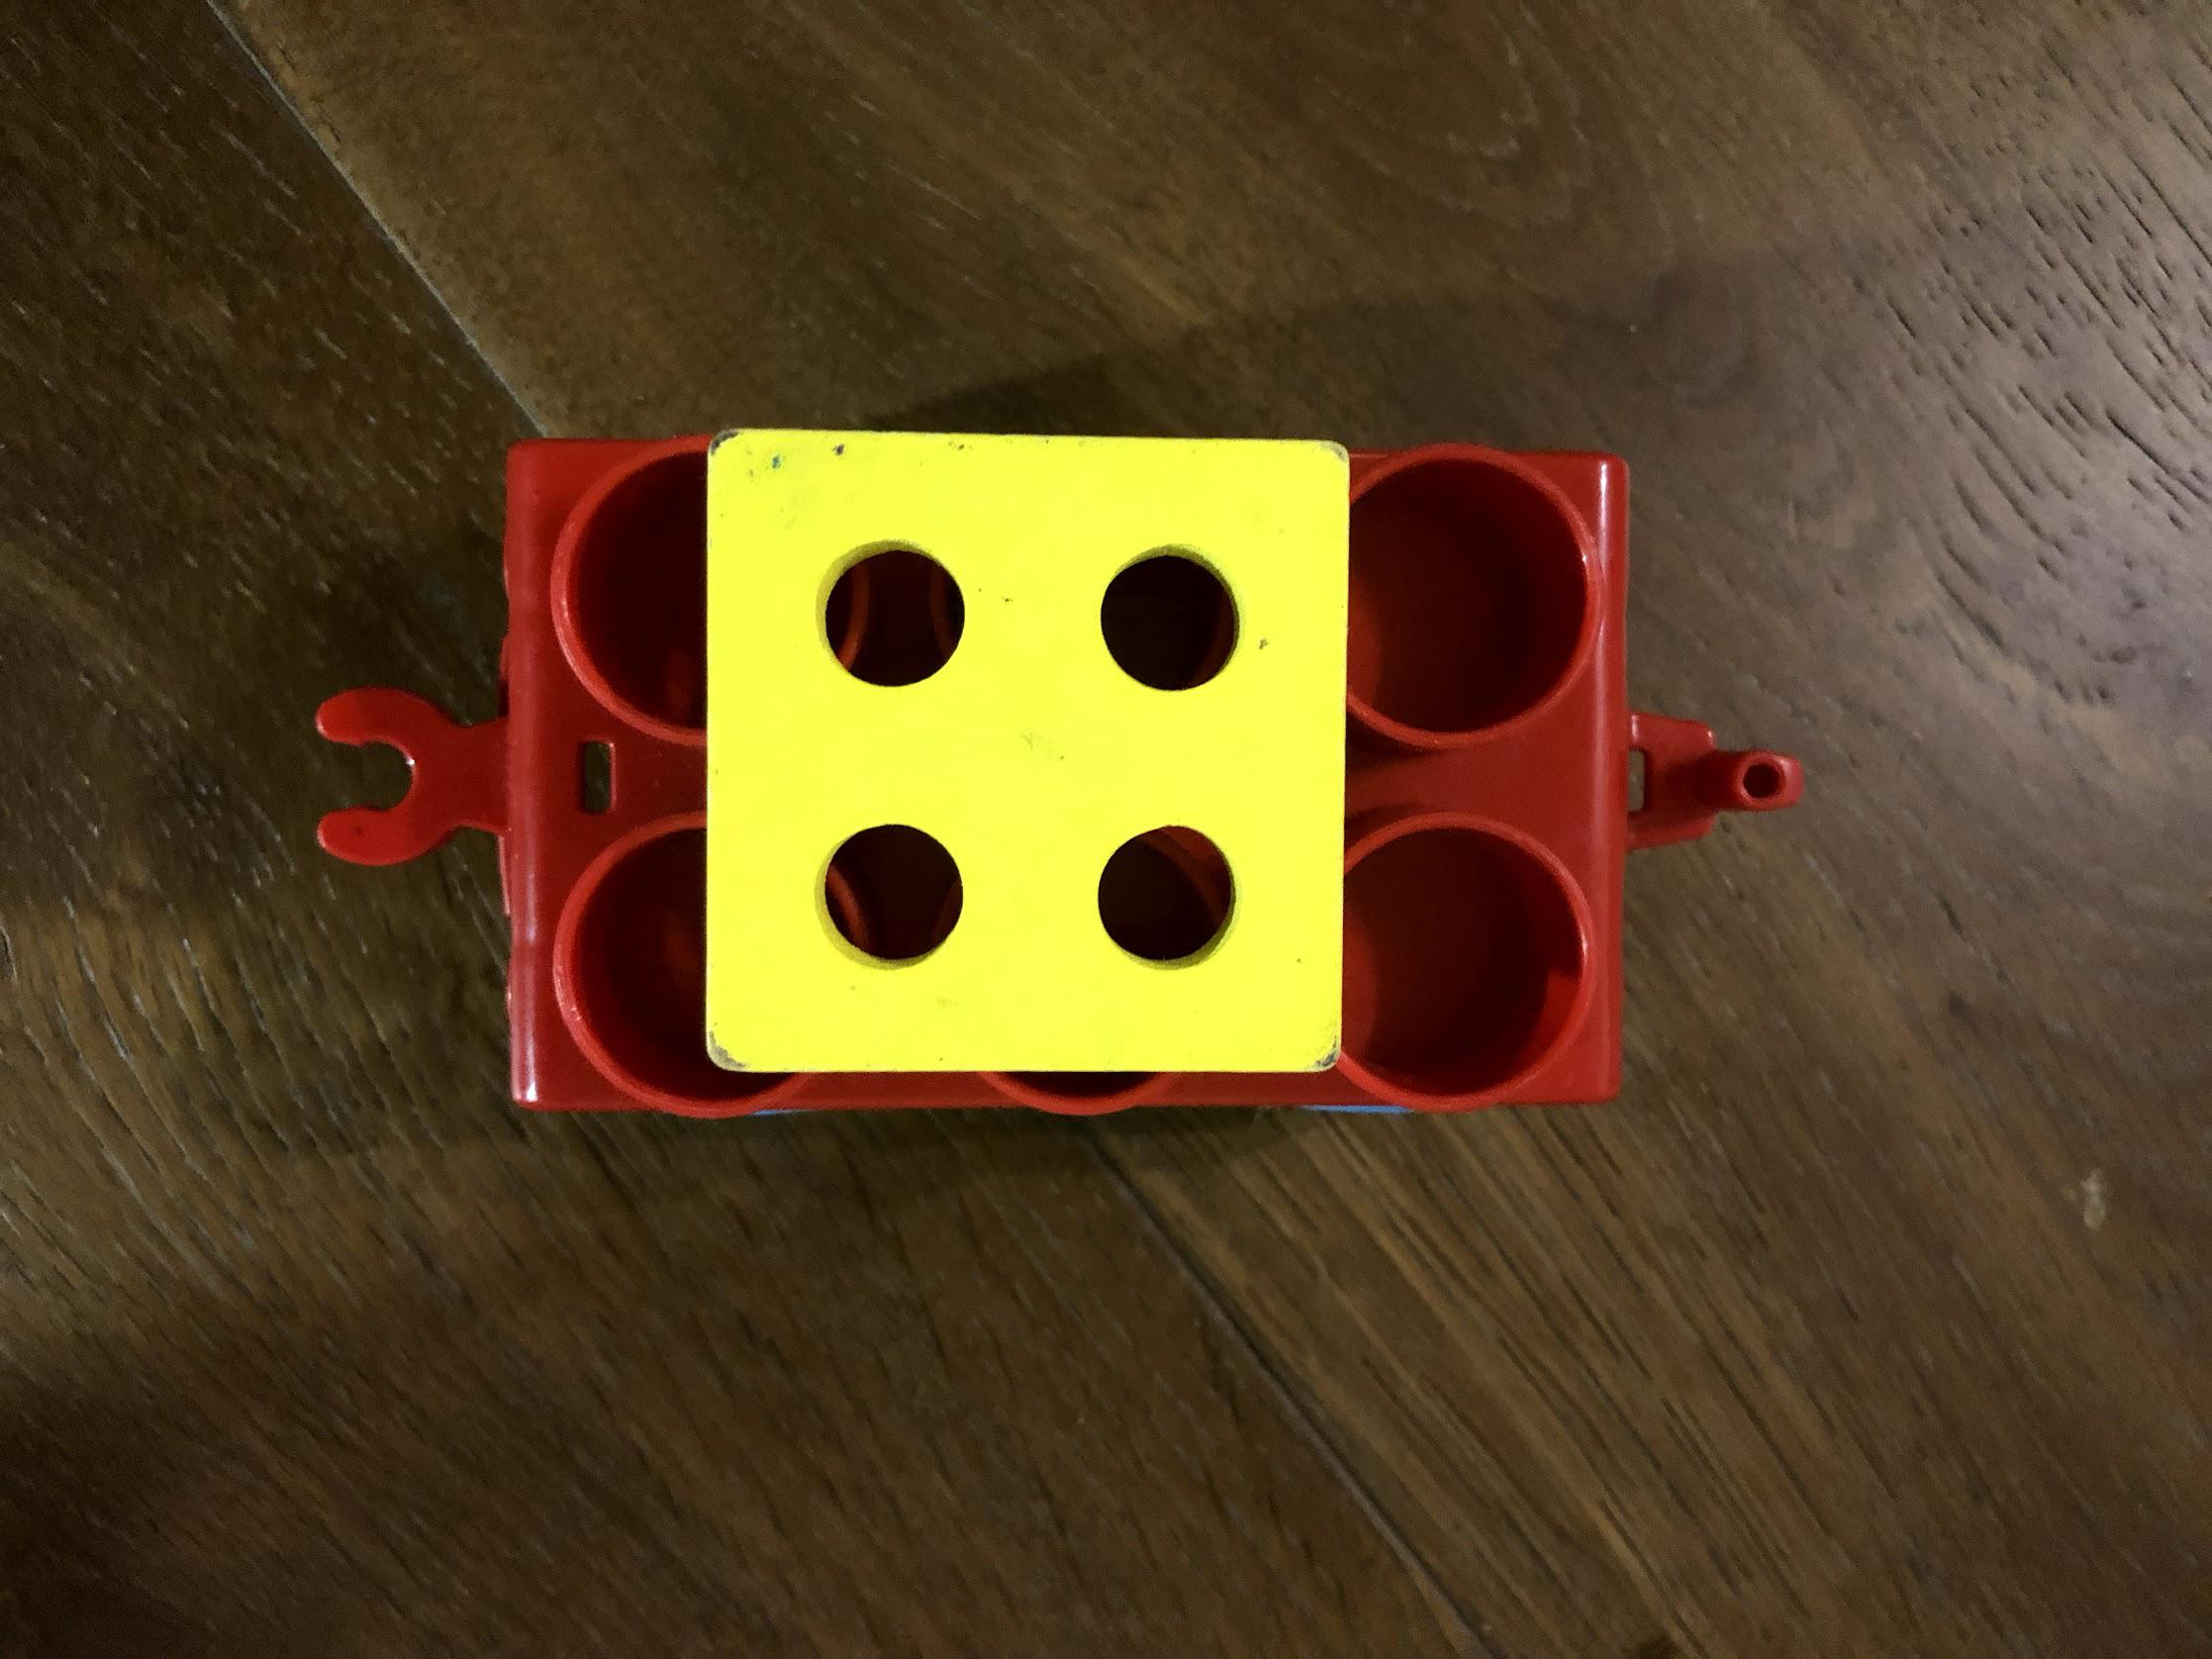Square: (712, 425, 1346, 1072)
